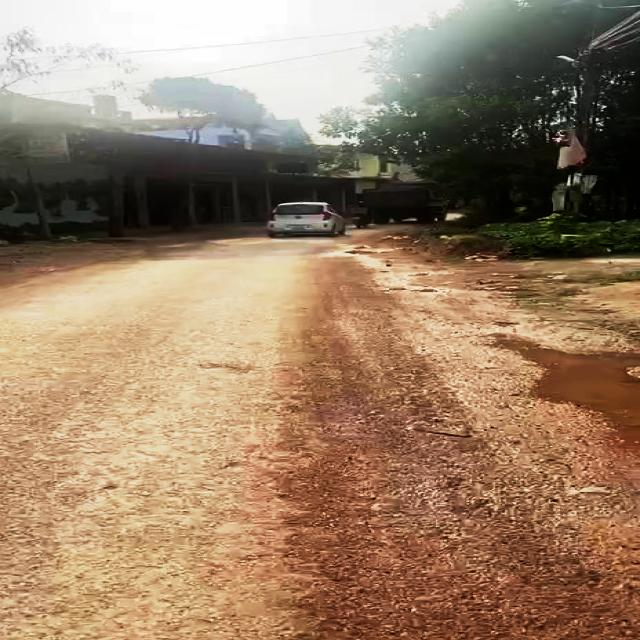pothole: (471, 325, 640, 459)
